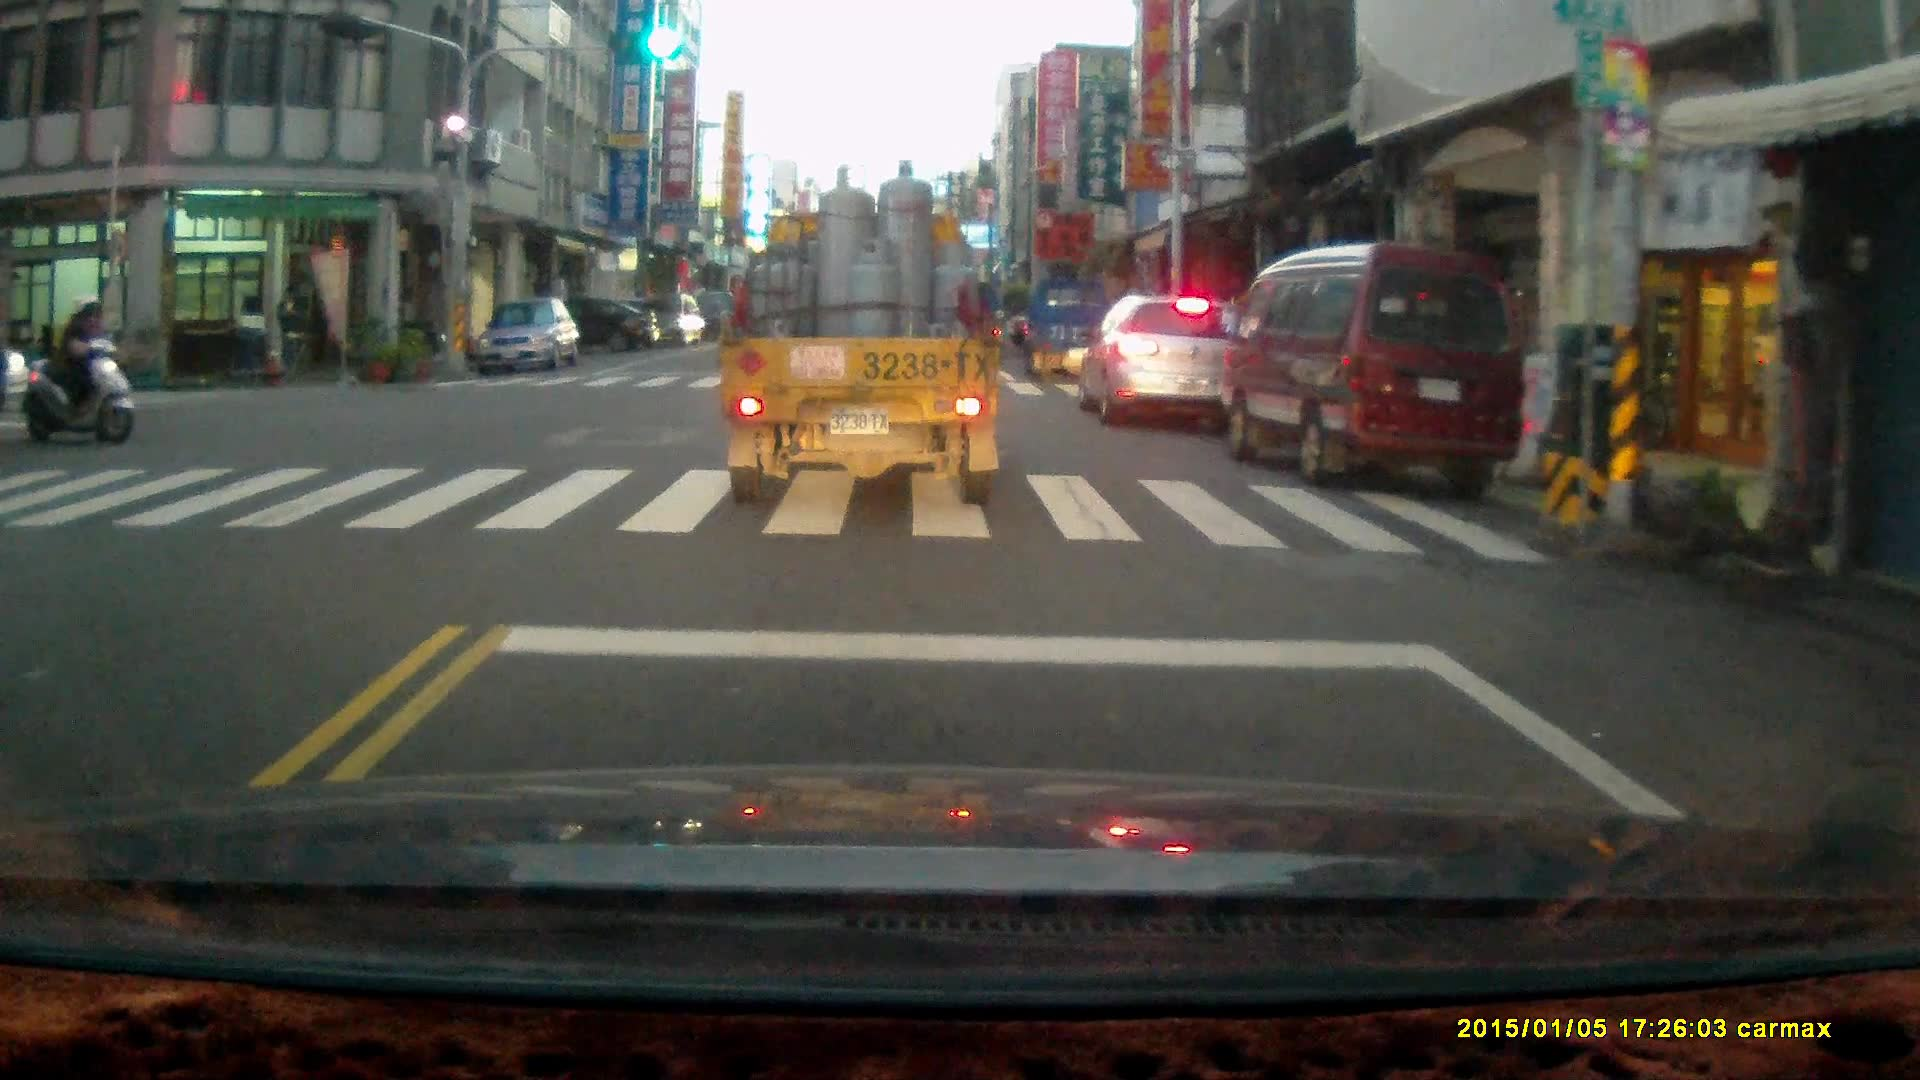pedestrian: (273, 278, 307, 384)
rider: (19, 295, 138, 446)
vehicle: (721, 162, 1001, 511), (1229, 245, 1530, 499), (1075, 289, 1260, 439), (1026, 278, 1122, 386), (516, 297, 655, 360), (475, 300, 583, 379), (621, 289, 702, 348)
